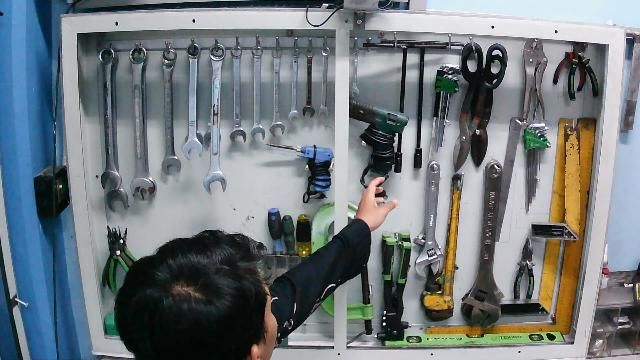gun_lem: (349, 96, 410, 230)
